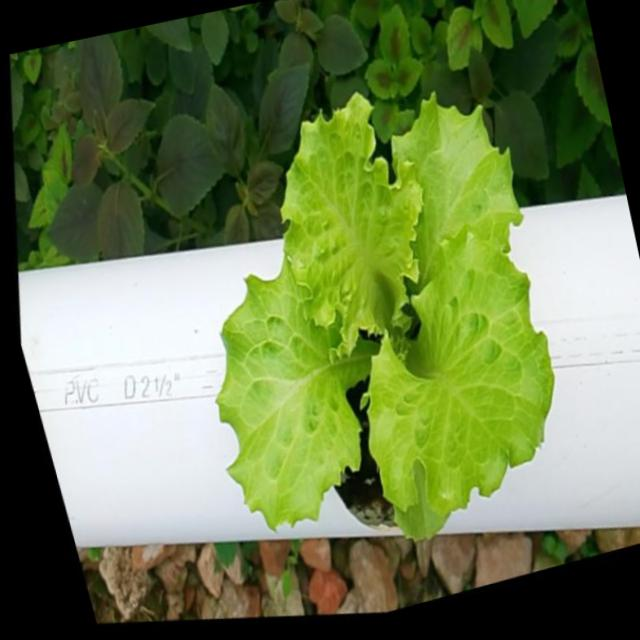Baby: (208, 80, 547, 532)
